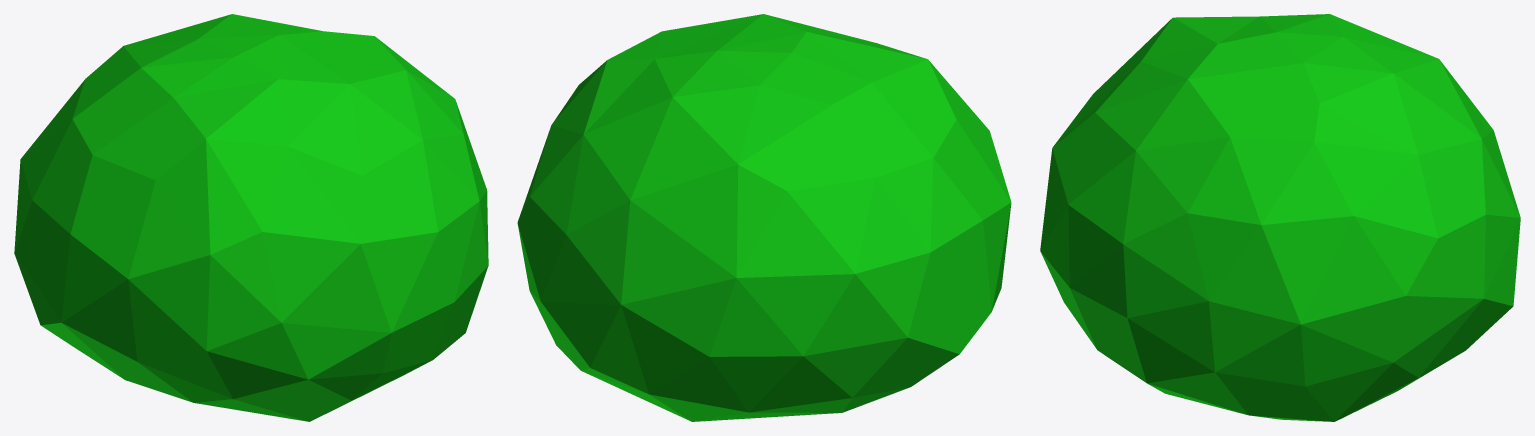
Rendered from bush_A_01.fbx.
3 renders of one model, left to right at view 1: azimuth 30°, elevation 25°; view 2: azimuth 150°, elevation 25°; view 3: azimuth 270°, elevation 25°, orthographic. The views are drawn at different scales.
Visible parts, largest first — view 1: bush_A_01; view 2: bush_A_01; view 3: bush_A_01.
Part boxes in pixels (x1,y1,x2,y2): bush_A_01: [14, 14, 488, 421]; bush_A_01: [517, 14, 1011, 421]; bush_A_01: [1040, 14, 1520, 421].
Size of the model in its own units: 106 by 80.02 by 107.
